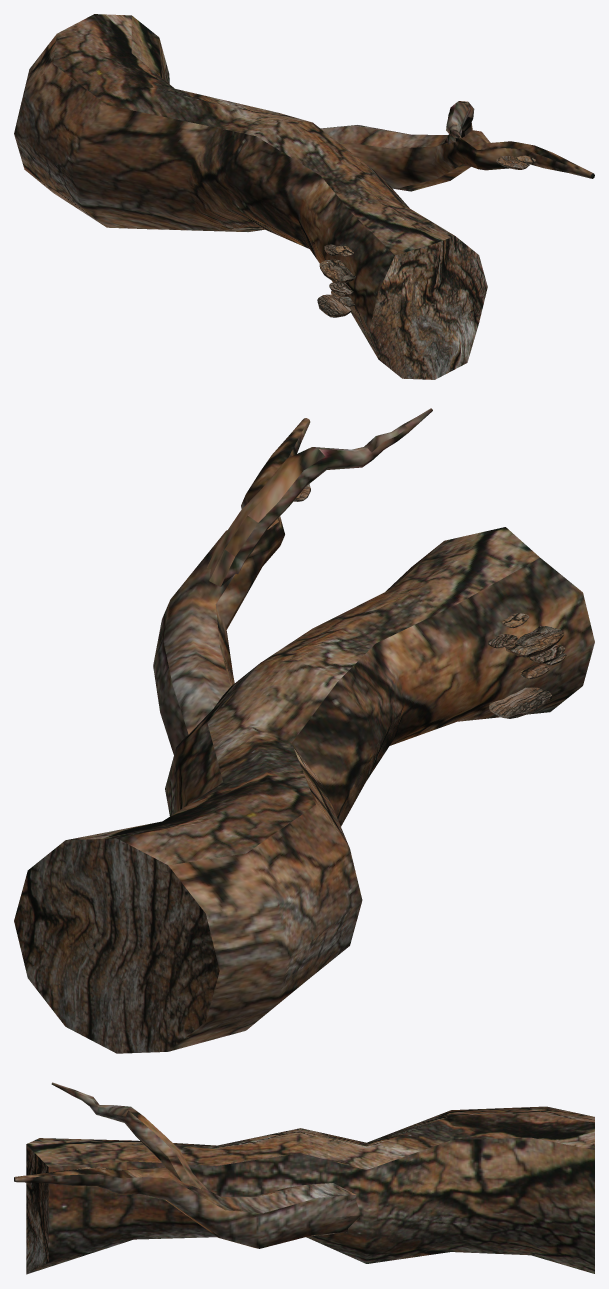
The model's file is CC_Menu_Log.fbx.
3 views of the same model, one above another, from view 1: azimuth 30°, elevation 25°; view 2: azimuth 150°, elevation 25°; view 3: azimuth 270°, elevation 25° (orthographic). The views are drawn at different scales.
Parts seen in each view (by area): view 1: pCylinder34; view 2: pCylinder34; view 3: pCylinder34.
Part boxes in pixels (left/top/right/bottom): pCylinder34: left=14, top=14, right=594, bottom=379; pCylinder34: left=14, top=408, right=594, bottom=1053; pCylinder34: left=14, top=1082, right=594, bottom=1274.
Bounding box in the file's own units: 59.02 × 46.64 × 114.
